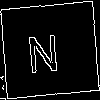N: (25, 24, 61, 74)
